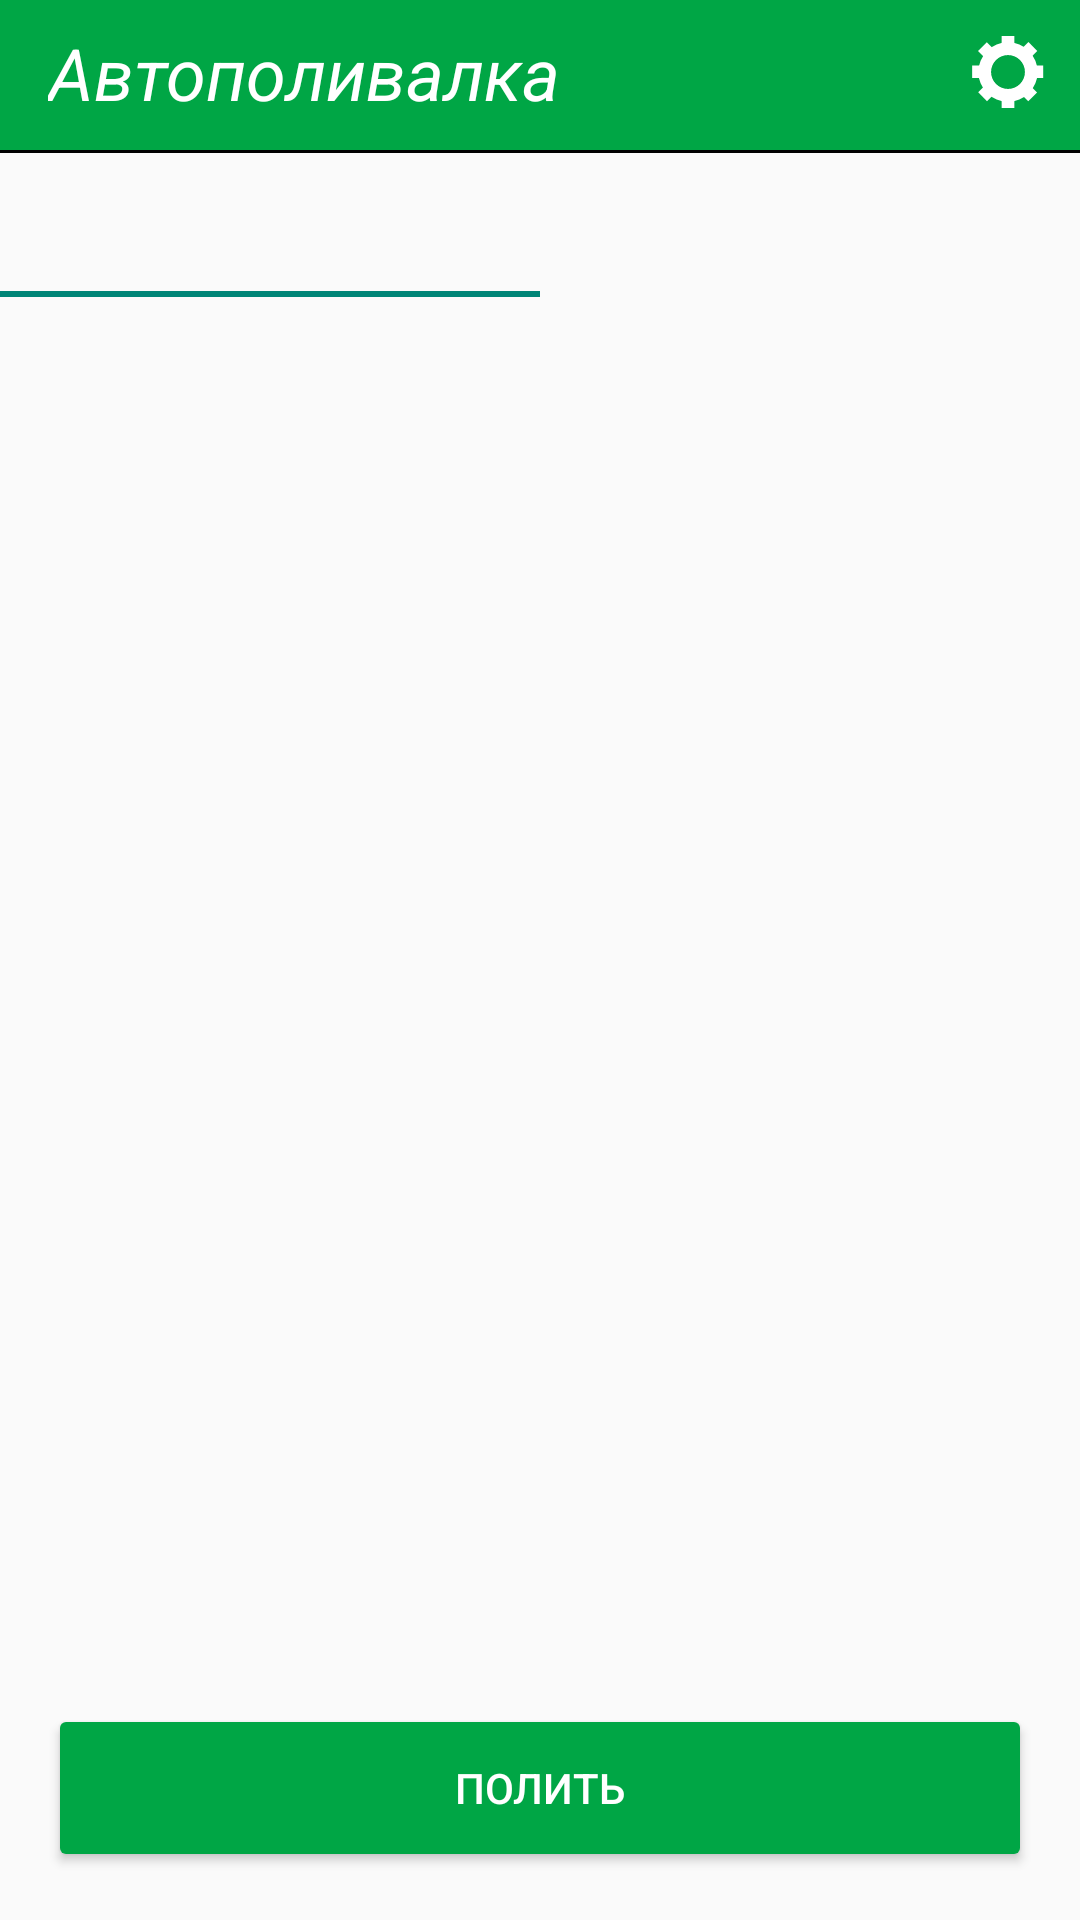

Point at icon controls on the screen. Image size 1080px×1920px, points as (x=x, y=y).
settings: (x=1008, y=72)
